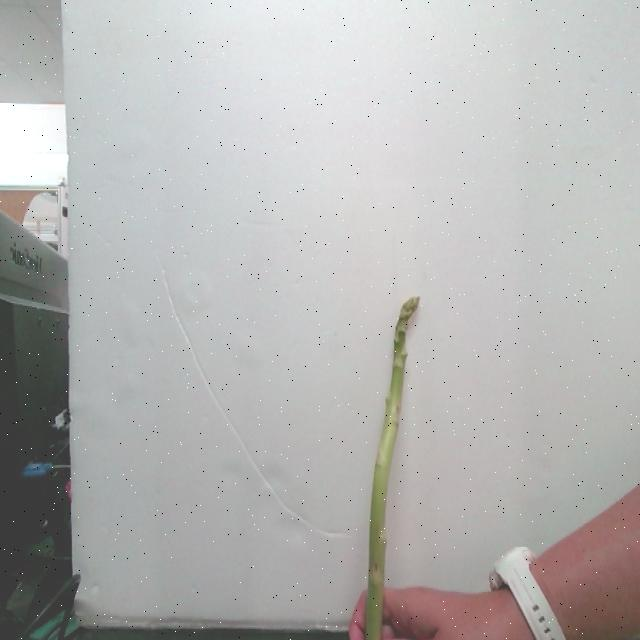aspargus: (360, 298, 418, 640)
